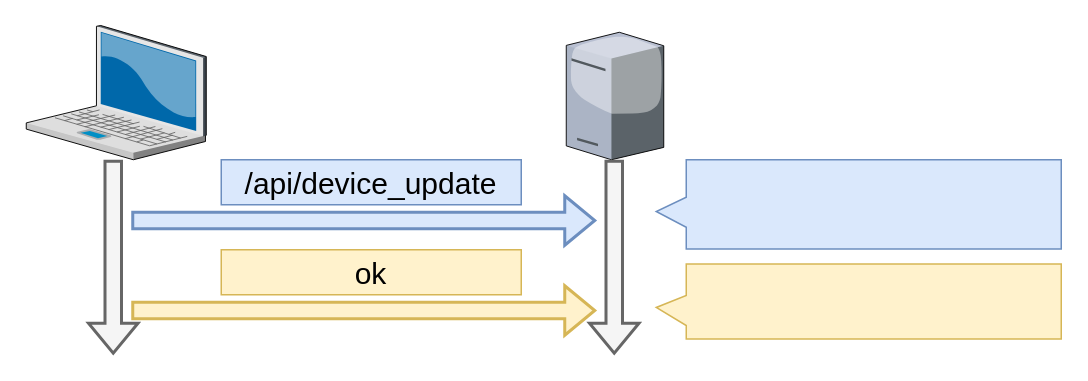
This 1088x381 diagram has some shape labels left out. Each missing label, with the centre of its shape:
"アクセストークンを利用し 更新デバイス情報を送信" goes at (858,203).
"更新を完了" goes at (858,300).
